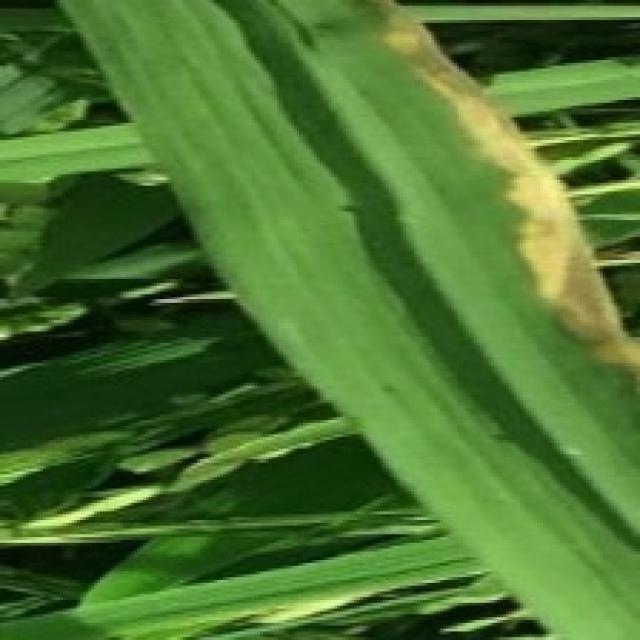Unhealthy: (368, 0, 640, 396)
